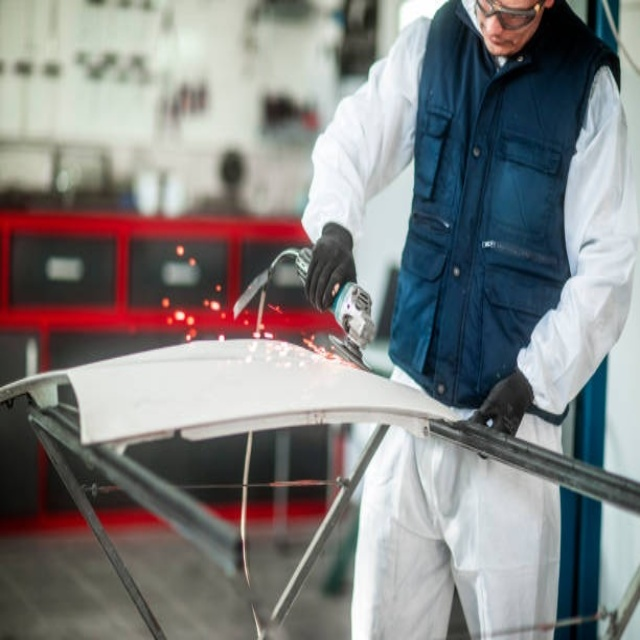Gafas: (475, 0, 548, 30)
Guantes: (304, 222, 356, 310), (469, 369, 534, 437)
Sin_mascara: (487, 32, 517, 50)
